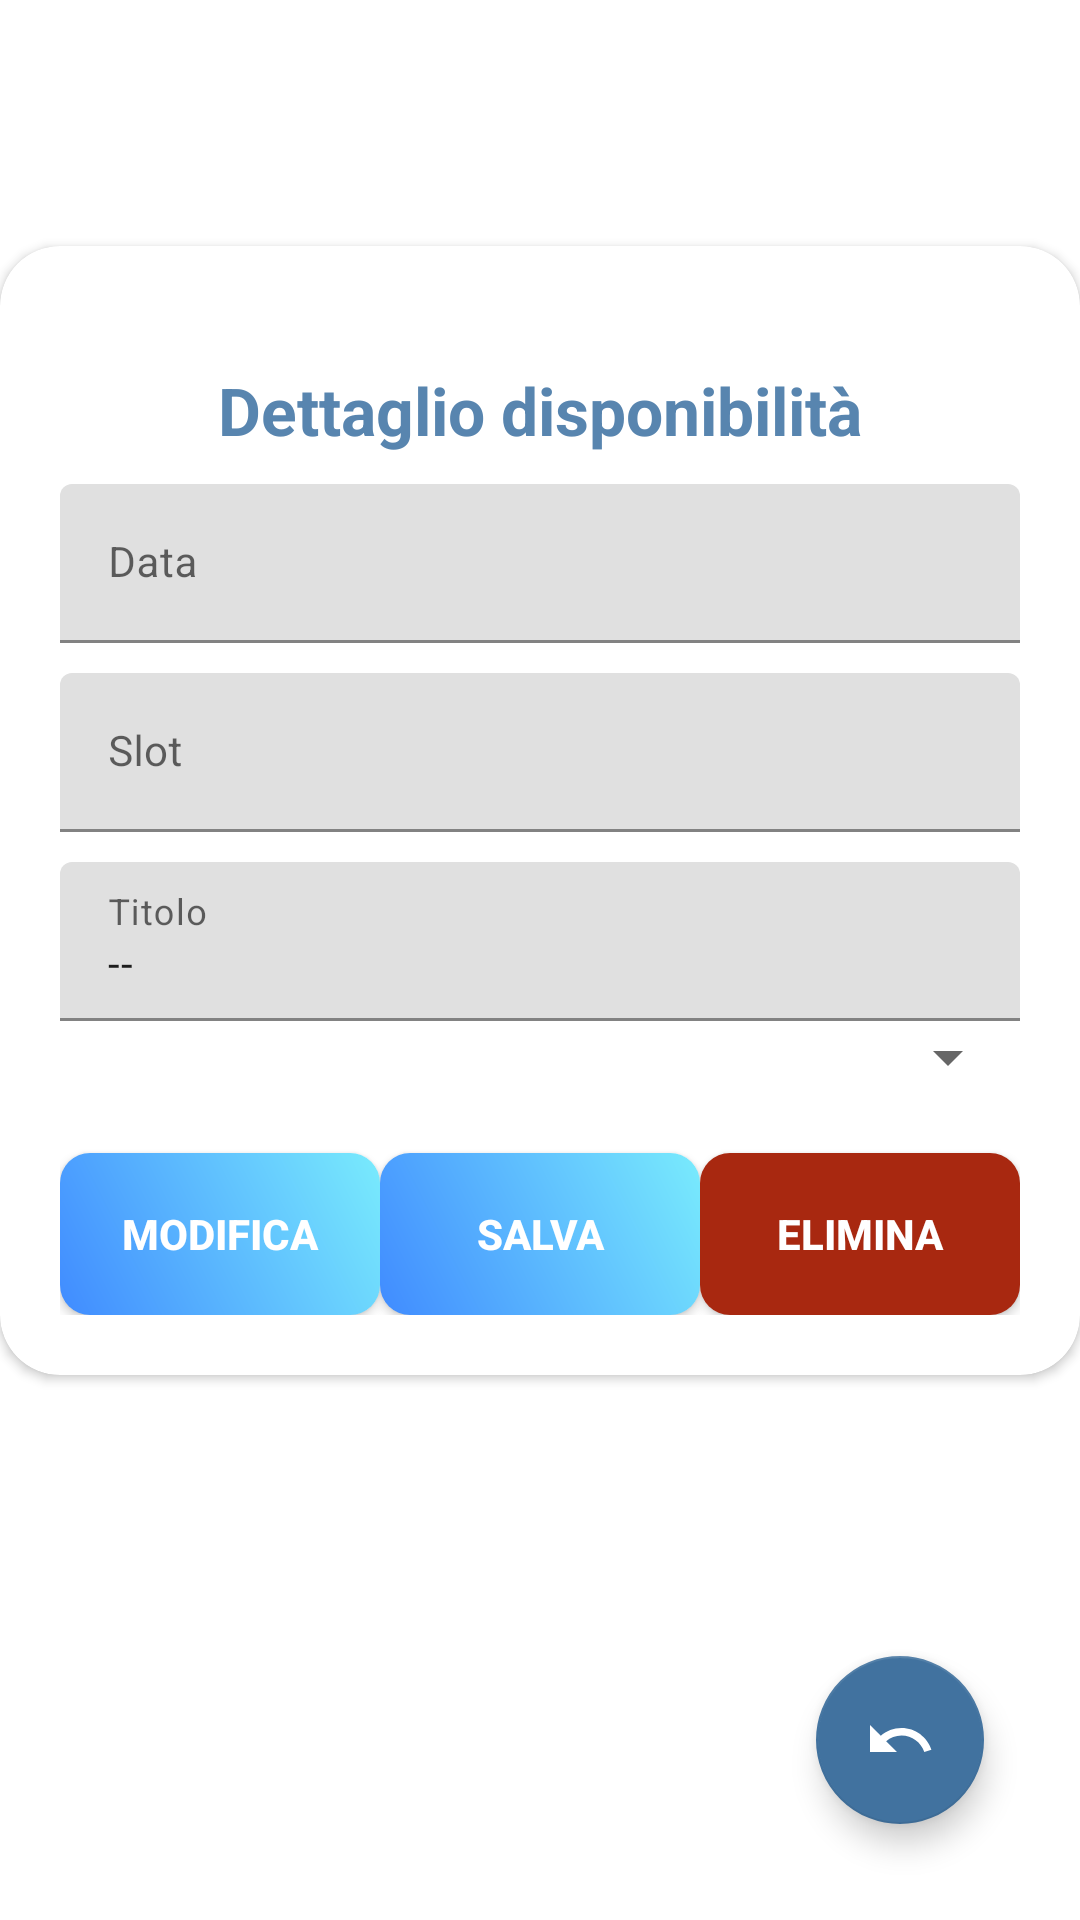

Named icons in this screenshot (1080x1920) and their bounding boxes, detection(x1, y1, x2, y2):
back: detection(816, 1656, 984, 1824)
